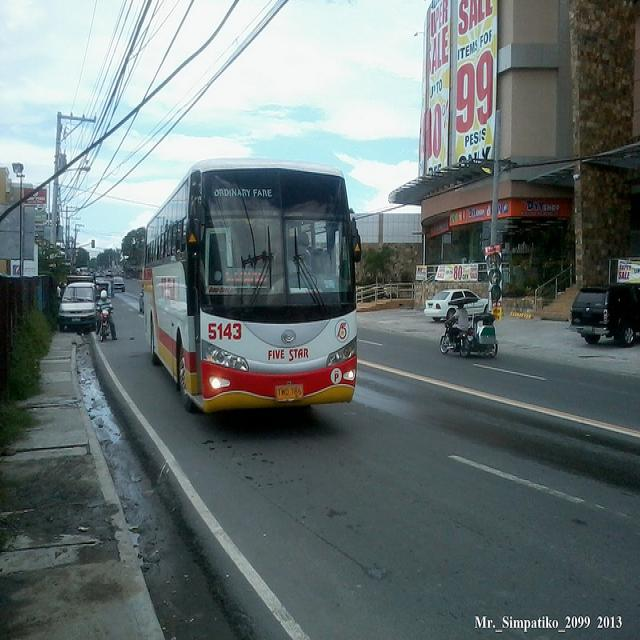motor: (438, 317, 474, 357), (472, 316, 501, 356), (96, 306, 114, 341)
